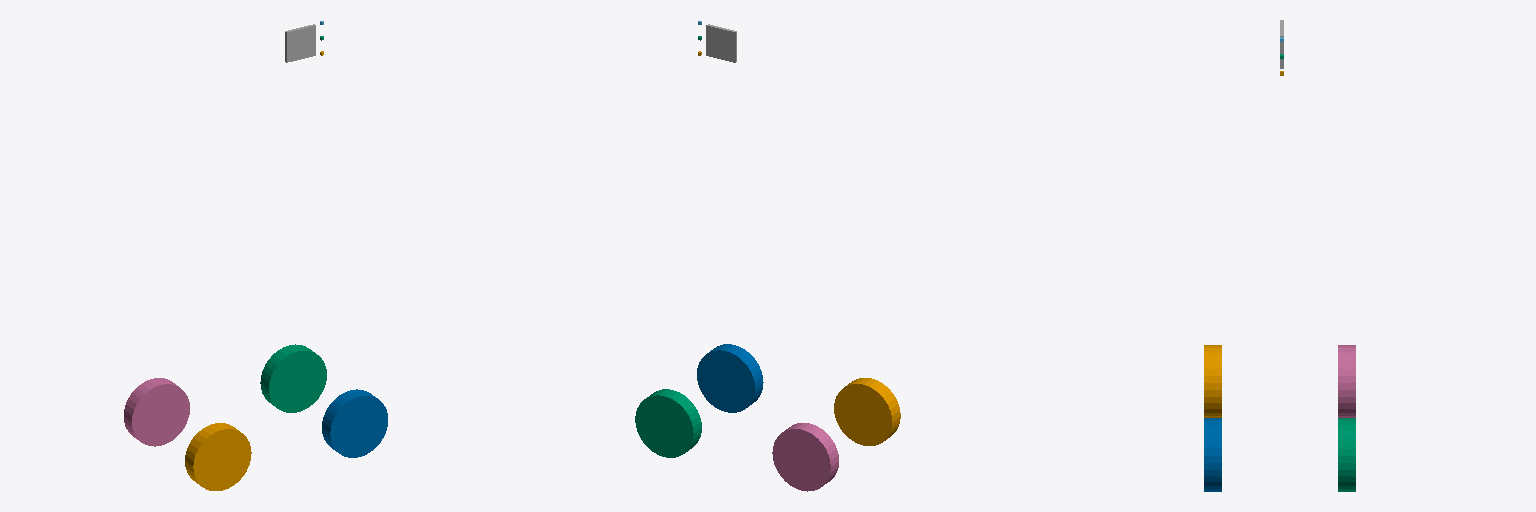
The robot description file, URDF, robot "torso":
<?xml version="1.0"?>
<robot name="torso"
	xmlns:sensor="http://playerstage.sourceforge.net/gazebo/xmlschema/#sensor"
	xmlns:controller="http://playerstage.sourceforge.net/gazebo/xmlschema/#controller"
	xmlns:interface="http://playerstage.sourceforge.net/gazebo/xmlschema/#interface">

	<!-- ################################################################################# -->
	<!-- add links-->
	
	<!-- platform -->
	<link name="link_platform">
		<inertial>
			<origin xyz="0 0 -10" rpy="0 0 0"/>
			<mass value="80"/>
			<inertia ixx="1"  ixy="0"  ixz="0" iyy="1" iyz="0" izz="1" />
		</inertial>
		<visual>
			<origin xyz="0 0 0" rpy="0 0 0" />
			<geometry>
				<mesh filename="package://cob_defs/common/files/meshes/platform.stl" />
			</geometry>
			<material name="Grey"/>
		</visual>
		<collision>
			<origin xyz="0 0 0" rpy="0 0 0" />
			<geometry>
				<mesh filename="package://cob_defs/common/files/meshes/platform.stl"/>
			</geometry>
		</collision>
	</link>

	<!-- wheel front left -->
	<link name="link_steerFL">
		<inertial>
			<origin xyz="0 0 0" rpy="0 0 0"/>
			<mass value="1"/>
			<inertia ixx="1"  ixy="0"  ixz="0" iyy="1" iyz="0" izz="1" />
		</inertial>
		<visual>
			<origin xyz="0 0 -0.0005" rpy="0 0 0" />
			<geometry>
		        <box size="0.001 0.001 0.001"/>
			</geometry>
			<material name="Grey"/>
		</visual>
		<collision>
			<origin xyz="0 0 -0.0005" rpy="0 0 0" />
			<geometry>
		        <box size="0.001 0.001 0.001"/>
			</geometry>
		</collision>
	</link>

	<link name="link_wheelFL">
		<inertial>
			<origin xyz="0 0 0" rpy="0 0 0"/>
			<mass value="1"/>
			<inertia ixx="1"  ixy="0"  ixz="0" iyy="1" iyz="0" izz="1" />
		</inertial>
		<visual>
			<origin xyz="0 0 0.0025" rpy="1.57 0 0" />
			<geometry>
					<cylinder radius="0.1" length="0.05"/>
			</geometry>
			<material name="Grey"/>
		</visual>
		<collision>
			<origin xyz="0 0 0.0025" rpy="1.57 0 0" />
			<geometry>
		        <cylinder radius="0.1" length="0.05"/>
			</geometry>
		</collision>
	</link>
	
	<!-- wheel front right -->
	<link name="link_steerFR">
		<inertial>
			<origin xyz="0 0 0" rpy="0 0 0"/>
			<mass value="1"/>
			<inertia ixx="1"  ixy="0"  ixz="0" iyy="1" iyz="0" izz="1" />
		</inertial>
		<visual>
			<origin xyz="0 0 -0.0005" rpy="0 0 0" />
			<geometry>
		        <box size="0.001 0.001 0.001"/>
			</geometry>
			<material name="Grey"/>
		</visual>
		<collision>
			<origin xyz="0 0 -0.0005" rpy="0 0 0" />
			<geometry>
		        <box size="0.001 0.001 0.001"/>
			</geometry>
		</collision>
	</link>

	<link name="link_wheelFR">
		<inertial>
			<origin xyz="0 0 0" rpy="0 0 0"/>
			<mass value="1"/>
			<inertia ixx="1"  ixy="0"  ixz="0" iyy="1" iyz="0" izz="1" />
		</inertial>
		<visual>
			<origin xyz="0 0 0.0025" rpy="1.57 0 0" />
			<geometry>
					<cylinder radius="0.1" length="0.05"/>
			</geometry>
			<material name="Grey"/>
		</visual>
		<collision>
			<origin xyz="0 0 0.0025" rpy="1.57 0 0" />
			<geometry>
		        <cylinder radius="0.1" length="0.05"/>
			</geometry>
		</collision>
	</link>	

	<!-- wheel rear left -->
	<link name="link_steerRL">
		<inertial>
			<origin xyz="0 0 0" rpy="0 0 0"/>
			<mass value="1"/>
			<inertia ixx="1"  ixy="0"  ixz="0" iyy="1" iyz="0" izz="1" />
		</inertial>
		<visual>
			<origin xyz="0 0 -0.0005" rpy="0 0 0" />
			<geometry>
		        <box size="0.001 0.001 0.001"/>
			</geometry>
			<material name="Grey"/>
		</visual>
		<collision>
			<origin xyz="0 0 -0.0005" rpy="0 0 0" />
			<geometry>
		        <box size="0.001 0.001 0.001"/>
			</geometry>
		</collision>
	</link>

	<link name="link_wheelRL">
		<inertial>
			<origin xyz="0 0 0" rpy="0 0 0"/>
			<mass value="1"/>
			<inertia ixx="1"  ixy="0"  ixz="0" iyy="1" iyz="0" izz="1" />
		</inertial>
		<visual>
			<origin xyz="0 0 0.0025" rpy="1.57 0 0" />
			<geometry>
					<cylinder radius="0.1" length="0.05"/>
			</geometry>
			<material name="Grey"/>
		</visual>
		<collision>
			<origin xyz="0 0 0.0025" rpy="1.57 0 0" />
			<geometry>
		        <cylinder radius="0.1" length="0.05"/>
			</geometry>
		</collision>
	</link>
	
	<!-- wheel rear right -->
	<link name="link_steerRR">
		<inertial>
			<origin xyz="0 0 0" rpy="0 0 0"/>
			<mass value="1"/>
			<inertia ixx="1"  ixy="0"  ixz="0" iyy="1" iyz="0" izz="1" />
		</inertial>
		<visual>
			<origin xyz="0 0 -0.0005" rpy="0 0 0" />
			<geometry>
		        <box size="0.001 0.001 0.001"/>
			</geometry>
			<material name="Grey"/>
		</visual>
		<collision>
			<origin xyz="0 0 -0.0005" rpy="0 0 0" />
			<geometry>
		        <box size="0.001 0.001 0.001"/>
			</geometry>
		</collision>
	</link>

	<link name="link_wheelRR">
		<inertial>
			<origin xyz="0 0 0" rpy="0 0 0"/>
			<mass value="1"/>
			<inertia ixx="1"  ixy="0"  ixz="0" iyy="1" iyz="0" izz="1" />
		</inertial>
		<visual>
			<origin xyz="0 0 0.0025" rpy="1.57 0 0" />
			<geometry>
					<cylinder radius="0.1" length="0.05"/>
			</geometry>
			<material name="Grey"/>
		</visual>
		<collision>
			<origin xyz="0 0 0.0025" rpy="1.57 0 0" />
			<geometry>
		        <cylinder radius="0.1" length="0.05"/>
			</geometry>
		</collision>
	</link>

	<!-- tray -->
	<link name="link_tray">
		<inertial>
			<origin xyz="0 0 0" rpy="0 0 0"/>
			<mass value="5"/>
			<inertia ixx="1"  ixy="0"  ixz="0" iyy="1" iyz="0" izz="1" />
		</inertial>
		<visual>
			<origin xyz="0 0 0" rpy="0.707 0 0" />
			<geometry>
				<mesh filename="package://cob_defs/common/files/meshes/tray.stl" />
			</geometry>
			<material name="Blue"/>
		</visual>
		<collision>
			<origin xyz="0 0 0" rpy="0.707 0 0" />
			<geometry>
				<mesh filename="package://cob_defs/common/files/meshes/tray.stl"/>
			</geometry>
		</collision>
	</link>
	
	<!-- neck -->
	<link name="link_neckZ">
		<inertial>
			<origin xyz="0 0 0" rpy="0 0 0"/>
			<mass value="0.1"/>
			<inertia ixx="1"  ixy="0"  ixz="0" iyy="1" iyz="0" izz="1" />
		</inertial>
		<visual>
			<origin xyz="0 0 0.0005" rpy="0 0 0" />
			<geometry>
		        <box size="0.001 0.001 0.001"/>
			</geometry>
			<material name="Grey"/>
		</visual>
		<collision>
			<origin xyz="0 0 0.0005" rpy="0 0 0" />
			<geometry>
		        <box size="0.001 0.001 0.001"/>
			</geometry>
		</collision>
	</link>
	
	<link name="link_neck">
		<inertial>
			<origin xyz="0 0 0" rpy="0 0 0"/>
			<mass value="1"/>
			<inertia ixx="1"  ixy="0"  ixz="0" iyy="1" iyz="0" izz="1" />
		</inertial>
		<visual>
			<origin xyz="0.1 0.125 0" rpy="1.5708 0 0" />
			<geometry>
				<mesh filename="package://cob_defs/common/files/meshes/neck.stl" />
			</geometry>
			<material name="Red"/>
		</visual>
		<collision>
			<origin xyz="0 0 0" rpy="0 0 0" />
			<geometry>
				<mesh filename="package://cob_defs/common/files/meshes/neck.stl"/>
			</geometry>
		</collision>

	</link>
	
	<!-- head -->
	<link name="link_headZ">
		<inertial>
			<origin xyz="0 0 0" rpy="0 0 0"/>
			<mass value="0.1"/>
			<inertia ixx="1"  ixy="0"  ixz="0" iyy="1" iyz="0" izz="1" />
		</inertial>
		<visual>
			<origin xyz="0 0 0.0005" rpy="0 0 0" />
			<geometry>
		        <box size="0.001 0.001 0.001"/>
			</geometry>
			<material name="Grey"/>
		</visual>
		<collision>
			<origin xyz="0 0 0.0005" rpy="0 0 0" />
			<geometry>
		        <box size="0.001 0.001 0.001"/>
			</geometry>
		</collision>
	</link>	
	
	<link name="link_head">
		<inertial>
			<origin xyz="0 0 0" rpy="0 0 0"/>
			<mass value="1"/>
			<inertia ixx="1"  ixy="0"  ixz="0" iyy="1" iyz="0" izz="1" />
		</inertial>
		<visual>
			<origin xyz="0 0.05 0" rpy="1.5708 0 0" />
			<geometry>
				<mesh filename="package://cob_defs/common/files/meshes/head.stl" />
			</geometry>
			<material name="Grey"/>
		</visual>
		<collision>
			<origin xyz="0 0 0" rpy="0 0 0" />
			<geometry>
				<mesh filename="package://cob_defs/common/files/meshes/head.stl"/>
			</geometry>
		</collision>
	</link>
	
	<link name="link_head_cover">
		<inertial>
			<origin xyz="0 0 0" rpy="0 0 0"/>
			<mass value="1"/>
			<inertia ixx="1"  ixy="0"  ixz="0" iyy="1" iyz="0" izz="1" />
		</inertial>
		<visual>
			<origin xyz="0 0.05 0" rpy="1.5708 0 0" />
			<geometry>
				<mesh filename="package://cob_defs/common/files/meshes/head_cover.stl" />
			</geometry>
			<material name="Blue"/>
		</visual>
		<collision>
			<origin xyz="0 0 0" rpy="0 0 0" />
			<geometry>
				<mesh filename="package://cob_defs/common/files/meshes/head_cover.stl"/>
			</geometry>
		</collision>
	</link>
	
	<!-- eyes -->
	<link name="link_eyes">
		<inertial>
			<origin xyz="0 0 0" rpy="0 0 0"/>
			<mass value="1"/>
			<inertia ixx="1"  ixy="0"  ixz="0" iyy="1" iyz="0" izz="1" />
		</inertial>
		<visual>
			<origin xyz="0 0 0.005" rpy="0 0 0" />
			<geometry>
		        <box size="0.1 0.1 0.01"/>
<!--				<mesh filename="package://cob_defs/common/files/meshes/finger_tip.stl" /> -->
			</geometry>
			<material name="Grey"/>
		</visual>
		<collision>
			<origin xyz="0 0 0.005" rpy="0 0 0" />
			<geometry>
		        <box size="0.1 0.1 0.01"/>
<!--				<mesh filename="package://cob_defs/common/files/meshes/finger_tip.stl"/> -->
			</geometry>
		</collision>
	</link>
	
	<link name="link_colorcameraLeft">
		<inertial>
			<origin xyz="0 0 0" rpy="0 0 0"/>
			<mass value="1"/>
			<inertia ixx="1"  ixy="0"  ixz="0" iyy="1" iyz="0" izz="1" />
		</inertial>
		<visual>
			<origin xyz="0 0 0.005" rpy="0 0 0" />
			<geometry>
		        <box size="0.01 0.01 0.01"/>
<!--				<mesh filename="package://cob_defs/common/files/meshes/finger_tip.stl" /> -->
			</geometry>
			<material name="Grey"/>
		</visual>
		<collision>
			<origin xyz="0 0 0.005" rpy="0 0 0" />
			<geometry>
		        <box size="0.01 0.01 0.01"/>
<!--				<mesh filename="package://cob_defs/common/files/meshes/finger_tip.stl"/> -->
			</geometry>
		</collision>
	</link>
	
	<link name="link_colorcameraRight">
		<inertial>
			<origin xyz="0 0 0" rpy="0 0 0"/>
			<mass value="1"/>
			<inertia ixx="1"  ixy="0"  ixz="0" iyy="1" iyz="0" izz="1" />
		</inertial>
		<visual>
			<origin xyz="0 0 0.005" rpy="0 0 0" />
			<geometry>
		        <box size="0.01 0.01 0.01"/>
<!--				<mesh filename="package://cob_defs/common/files/meshes/finger_tip.stl" /> -->
			</geometry>
			<material name="Grey"/>
		</visual>
		<collision>
			<origin xyz="0 0 0.005" rpy="0 0 0" />
			<geometry>
		        <box size="0.01 0.01 0.01"/>
<!--				<mesh filename="package://cob_defs/common/files/meshes/finger_tip.stl"/> -->
			</geometry>
		</collision>
	</link>
	
	<link name="link_swissranger">
		<inertial>
			<origin xyz="0 0 0" rpy="0 0 0"/>
			<mass value="1"/>
			<inertia ixx="1"  ixy="0"  ixz="0" iyy="1" iyz="0" izz="1" />
		</inertial>
		<visual>
			<origin xyz="0 0 0.005" rpy="0 0 0" />
			<geometry>
		        <box size="0.01 0.01 0.01"/>
<!--				<mesh filename="package://cob_defs/common/files/meshes/finger_tip.stl" /> -->
			</geometry>
			<material name="Grey"/>
		</visual>
		<collision>
			<origin xyz="0 0 0.005" rpy="0 0 0" />
			<geometry>
		        <box size="0.01 0.01 0.01"/>
<!--				<mesh filename="package://cob_defs/common/files/meshes/finger_tip.stl"/> -->
			</geometry>
		</collision>
	</link>
	
	<!-- define colors for links -->
	<gazebo reference="link_platform">
		<material>Gazebo/Grey</material>
		<turnGravityOff>false</turnGravityOff>
	</gazebo>
	
	<gazebo reference="link_steerFL">
		<material>Gazebo/Black</material>
		<turnGravityOff>false</turnGravityOff>
	</gazebo>

	<gazebo reference="link_wheelFL">
		<material>Gazebo/Red</material>
		<turnGravityOff>false</turnGravityOff>
	</gazebo>
	
	<gazebo reference="link_steerFR">
		<material>Gazebo/Black</material>
		<turnGravityOff>false</turnGravityOff>
	</gazebo>

	<gazebo reference="link_wheelFR">
		<material>Gazebo/Red</material>
		<turnGravityOff>false</turnGravityOff>
	</gazebo>
	
	<gazebo reference="link_steerRL">
		<material>Gazebo/Black</material>
		<turnGravityOff>false</turnGravityOff>
	</gazebo>

	<gazebo reference="link_wheelRL">
		<material>Gazebo/Red</material>
		<turnGravityOff>false</turnGravityOff>
	</gazebo>
	
	<gazebo reference="link_steerRR">
		<material>Gazebo/Black</material>
		<turnGravityOff>false</turnGravityOff>
	</gazebo>

	<gazebo reference="link_wheelRR">
		<material>Gazebo/Red</material>
		<turnGravityOff>false</turnGravityOff>
	</gazebo>
	
	<gazebo reference="link_tray">
		<material>Gazebo/Blue</material>
		<turnGravityOff>false</turnGravityOff>
	</gazebo>
	
	<gazebo reference="link_neckZ">
		<material>Gazebo/Red</material>
		<turnGravityOff>true</turnGravityOff>
	</gazebo>
	
	<gazebo reference="link_neck">
		<material>Gazebo/Red</material>
		<turnGravityOff>false</turnGravityOff>
	</gazebo>

	<gazebo reference="link_headZ">
		<material>Gazebo/Grey</material>
		<turnGravityOff>false</turnGravityOff>
	</gazebo>

	<gazebo reference="link_head">
		<material>Gazebo/Grey</material>
		<turnGravityOff>false</turnGravityOff>
	</gazebo>
	
	<gazebo reference="link_head_cover">
		<material>Gazebo/Blue</material>
		<turnGravityOff>false</turnGravityOff>
	</gazebo>

	<gazebo reference="link_eyes">
		<material>Gazebo/Red</material>
		<turnGravityOff>false</turnGravityOff>
	</gazebo>
	
	<gazebo reference="link_colorcameraLeft">
		<material>Gazebo/Blue</material>
		<turnGravityOff>false</turnGravityOff>
	</gazebo>	
	
	<gazebo reference="link_colorcameraRight">
		<material>Gazebo/Blue</material>
		<turnGravityOff>false</turnGravityOff>
	</gazebo>
	
	<gazebo reference="link_swissranger">
		<material>Gazebo/Green</material>
		<turnGravityOff>false</turnGravityOff>
	</gazebo>

	<!-- ################################################################################# -->
	<!-- add joints -->

	<!-- wheel front left -->
	<joint name="joint_platform_steerFL" type="continuous">
		<origin xyz="0.235 0.1825 0.092" rpy="0 0 0" />
		<parent link="link_platform"/>
		<child link="link_steerFL"/>
		<axis xyz="0 0 1" />
	    <calibration reference_position="0.0"/>
		<limit effort="100" lower="-1" upper="1" velocity="5"/>
	</joint>
	
	<joint name="joint_steerFL_wheelFL" type="continuous">
		<origin xyz="0 0 0.001" rpy="0 0 0" />
		<parent link="link_steerFL"/>
		<child link="link_wheelFL"/>
		<axis xyz="0 1 0" />
	    <calibration reference_position="0.0"/>
		<limit effort="100" lower="-1" upper="1" velocity="5"/>
	</joint>

	<!-- wheel front right -->
	<joint name="joint_platform_steerFR" type="continuous">
		<origin xyz="0.235 -0.1825 0.092" rpy="0 0 0" />
		<parent link="link_platform"/>
		<child link="link_steerFR"/>
		<axis xyz="0 0 1" />
	    <calibration reference_position="0.0"/>
		<limit effort="100" lower="-1" upper="1" velocity="5"/>
	</joint>
	
	<joint name="joint_steerFR_wheelFR" type="continuous">
		<origin xyz="0 0 0.001" rpy="0 0 0" />
		<parent link="link_steerFR"/>
		<child link="link_wheelFR"/>
		<axis xyz="0 1 0" />
	    <calibration reference_position="0.0"/>
		<limit effort="100" lower="-1" upper="1" velocity="5"/>
	</joint>
	
	<!-- wheel rear left -->
	<joint name="joint_platform_steerRL" type="continuous">
		<origin xyz="-0.235 0.1825 0.092" rpy="0 0 0" />
		<parent link="link_platform"/>
		<child link="link_steerRL"/>
		<axis xyz="0 0 1" />
	    <calibration reference_position="0.0"/>
		<limit effort="100" lower="-1" upper="1" velocity="5"/>
	</joint>
	
	<joint name="joint_steerRL_wheelRL" type="continuous">
		<origin xyz="0 0 0.001" rpy="0 0 0" />
		<parent link="link_steerRL"/>
		<child link="link_wheelRL"/>
		<axis xyz="0 1 0" />
	    <calibration reference_position="0.0"/>
		<limit effort="100" lower="-1" upper="1" velocity="5"/>
	</joint>

	<!-- wheel rear right -->
	<joint name="joint_platform_steerRR" type="continuous">
		<origin xyz="-0.235 -0.1825 0.092" rpy="0 0 0" />
		<parent link="link_platform"/>
		<child link="link_steerRR"/>
		<axis xyz="0 0 1" />
	    <calibration reference_position="0.0"/>
		<limit effort="100" lower="-1" upper="1" velocity="5"/>
	</joint>
	
	<joint name="joint_steerRR_wheelRR" type="continuous">
		<origin xyz="0 0 0.001" rpy="0 0 0" />
		<parent link="link_steerRR"/>
		<child link="link_wheelRR"/>
		<axis xyz="0 1 0" />
	    <calibration reference_position="0.0"/>
		<limit effort="100" lower="-1" upper="1" velocity="5"/>
	</joint>

	<!-- tray -->
	<joint name="joint_platform_tray" type="revolute">
		<origin xyz="0.21864 0.20061 0.73196" rpy="-0.707 0 0" />
		<parent link="link_platform"/>
		<child link="link_tray"/>
		<axis xyz="0 0 1" />
	    <calibration reference_position="2.5914"/>
		<limit effort="100" lower="-3.31612" upper="3" velocity="0.5"/> <!-- rads. effort is N-m applied force. vel is rad/s. -->
	</joint>
	
	<!-- neck Schunk PW90 -->
	<joint name="joint_platform_neckZ" type="revolute">
		<origin xyz="0.155 0 0.7798" rpy="3.1415926 0 0" />
		<parent link="link_platform"/>
		<child link="link_neckZ"/>
		<axis xyz="0 0 1" />
	    <calibration reference_position="-0.5306"/>
		<limit effort="24" lower="-6.2831" upper="6.2831" velocity="0.5"/> <!-- rads. effort is N-m applied force. vel is rad/s. -->
	</joint>
	
	<joint name="joint_neckZ_neck" type="revolute">
		<origin xyz="0 0 -0.115" rpy="1.5708 0 0" />
		<parent link="link_neckZ"/>
		<child link="link_neck"/>
		<axis xyz="0 0 1" />
	    <calibration reference_position="0.0320"/>
		<limit effort="46" lower="-1.5" upper="1.5" velocity="0.5"/> <!-- rads. effort is N-m applied force. vel is rad/s. -->
	</joint>

	<!-- head Schunk PW70 -->
	<joint name="joint_neck_headZ" type="revolute">
		<origin xyz="0 -0.237 0.0" rpy="-1.5708 0 0" />
		<parent link="link_neck"/>
		<child link="link_headZ"/>
		<axis xyz="0 0 1" />
	    <calibration reference_position="0.5481"/>
		<limit effort="4" lower="-6.2831" upper="6.2831" velocity="0.5"/> <!-- rads. effort is N-m applied force. vel is rad/s. -->
	</joint>
	
	<joint name="joint_headZ_head" type="revolute">
		<origin xyz="0 0 0" rpy="1.5708 0 0" />
		<parent link="link_headZ"/>
		<child link="link_head"/>
		<axis xyz="0 0 1" />
	    <calibration reference_position="0.0229"/>
		<limit effort="24" lower="-1.5" upper="1.5" velocity="0.5"/> <!-- rads. effort is N-m applied force. vel is rad/s. -->
	</joint>
	
	<!-- head_cover -->
	<joint name="joint_headZ_head_cover" type="fixed">
		<origin xyz="0 0 0" rpy="0 0 0" />
		<parent link="link_head"/>
		<child link="link_head_cover"/>
	</joint>
	
	<!-- eyes -->
	<joint name="joint_head_eyes" type="revolute">
		<origin xyz="0 -0.154 0" rpy="0 0 0" />
		<parent link="link_head"/>
		<child link="link_eyes"/>
		<axis xyz="0 0 1" />
	    <calibration reference_position="-3.14"/>
		<limit effort="100" lower="-0.1745" upper="3.316" velocity="0.5"/> <!-- rads. effort is N-m applied force. vel is rad/s. -->
	</joint>
	
	<joint name="joint_eyes_colorcameraLeft" type="fixed">
		<origin xyz="0.075 0.05 0" rpy="0 0 0" />
		<parent link="link_eyes"/>
		<child link="link_colorcameraLeft"/>
	</joint>
	
	<joint name="joint_eyes_colorcameraRight" type="fixed">
		<origin xyz="0.075 -0.05 0" rpy="0 0 0" />
		<parent link="link_eyes"/>
		<child link="link_colorcameraRight"/>
	</joint>
	
	<joint name="joint_eyes_swissranger" type="fixed">
		<origin xyz="0.075 0 0" rpy="0 0 0" />
		<parent link="link_eyes"/>
		<child link="link_swissranger"/>
	</joint>

	<!-- ################################################################################# -->
	<!-- add transmissions -->
	
	<!-- wheel front left -->
	<transmission name="trans_platform_steerFL" type="SimpleTransmission">
		<actuator name="motor_platform_steerFL"/>
		<joint name="joint_platform_steerFL"/>
		<mechanicalReduction>1</mechanicalReduction>
	</transmission>

	<transmission name="trans_steerFL_wheelFL" type="SimpleTransmission">
		<actuator name="motor_steerFL_wheelFL"/>
		<joint name="joint_steerFL_wheelFL"/>
		<mechanicalReduction>1</mechanicalReduction>
	</transmission>
	
	<!-- wheel front right -->
	<transmission name="trans_platform_steerFR" type="SimpleTransmission">
		<actuator name="motor_platform_steerFR"/>
		<joint name="joint_platform_steerFR"/>
		<mechanicalReduction>1</mechanicalReduction>
	</transmission>

	<transmission name="trans_steerFR_wheelFR" type="SimpleTransmission">
		<actuator name="motor_steerFR_wheelFR"/>
		<joint name="joint_steerFR_wheelFR"/>
		<mechanicalReduction>1</mechanicalReduction>
	</transmission>
	
	<!-- wheel rear left -->
	<transmission name="trans_platform_steerRL" type="SimpleTransmission">
		<actuator name="motor_platform_steerRL"/>
		<joint name="joint_platform_steerRL"/>
		<mechanicalReduction>1</mechanicalReduction>
	</transmission>

	<transmission name="trans_steerRL_wheelRL" type="SimpleTransmission">
		<actuator name="motor_steerRL_wheelRL"/>
		<joint name="joint_steerRL_wheelRL"/>
		<mechanicalReduction>1</mechanicalReduction>
	</transmission>
	
	<!-- wheel rear right -->
	<transmission name="trans_platform_steerRR" type="SimpleTransmission">
		<actuator name="motor_platform_steerRR"/>
		<joint name="joint_platform_steerRR"/>
		<mechanicalReduction>1</mechanicalReduction>
	</transmission>

	<transmission name="trans_steerRR_wheelRR" type="SimpleTransmission">
		<actuator name="motor_steerRR_wheelRR"/>
		<joint name="joint_steerRR_wheelRR"/>
		<mechanicalReduction>1</mechanicalReduction>
	</transmission>
	
	<!-- tray -->
	<transmission name="trans_platform_tray" type="SimpleTransmission">
		<actuator name="motor_platform_tray"/>
		<joint name="joint_platform_tray"/>
		<mechanicalReduction>1</mechanicalReduction>
	</transmission>
	
	<!-- neck -->
	<transmission name="trans_platform_neckZ" type="SimpleTransmission">
		<actuator name="motor_platform_neckZ"/>
		<joint name="joint_platform_neckZ"/>
		<mechanicalReduction>1</mechanicalReduction>
	</transmission>
	
	<transmission name="trans_neckZ_neck" type="SimpleTransmission">
		<actuator name="motor_neckZ_neck"/>
		<joint name="joint_neckZ_neck"/>
		<mechanicalReduction>1</mechanicalReduction>
	</transmission>
	
	<!-- head -->
	<transmission name="trans_neck_headZ" type="SimpleTransmission">
		<actuator name="motor_neck_headZ"/>
		<joint name="joint_neck_headZ"/>
		<mechanicalReduction>1</mechanicalReduction>
	</transmission>
	
	<transmission name="trans_headZ_head" type="SimpleTransmission">
		<actuator name="motor_headZ_head"/>
		<joint name="joint_headZ_head"/>
		<mechanicalReduction>1</mechanicalReduction>
	</transmission>
	
	<!-- eyes -->
	<transmission name="trans_head_eyes" type="SimpleTransmission">
		<actuator name="motor_head_eyes"/>
		<joint name="joint_head_eyes"/>
		<mechanicalReduction>1</mechanicalReduction>
	</transmission>

</robot>

--- What the picture shows (computed from the rendered views, not written in the file) ---
3 views of the same robot in one strip: view 1: azimuth 30°, elevation 25°; view 2: azimuth 150°, elevation 25°; view 3: azimuth 270°, elevation 25° (orthographic).
Model torso with 19 links and 18 joints (6 revolute, 8 continuous, 4 fixed), rooted at link_platform, posed every joint at zero.
Links seen in each view (by area): view 1: link_wheelFL, link_wheelRR, link_wheelRL, link_wheelFR, link_eyes; view 2: link_wheelFL, link_wheelFR, link_wheelRL, link_wheelRR, link_eyes; view 3: link_wheelFL, link_wheelFR, link_wheelRL, link_wheelRR.
Link boxes in pixels (bbox=[...]): link_wheelFL: bbox=[260, 344, 326, 412]; link_wheelRR: bbox=[185, 423, 251, 490]; link_wheelRL: bbox=[124, 378, 189, 446]; link_wheelFR: bbox=[322, 389, 387, 457]; link_eyes: bbox=[285, 24, 315, 62]; link_wheelFL: bbox=[635, 389, 701, 457]; link_wheelFR: bbox=[697, 344, 763, 412]; link_wheelRL: bbox=[772, 423, 838, 491]; link_wheelRR: bbox=[834, 378, 900, 445]; link_eyes: bbox=[706, 24, 736, 62]; link_wheelFL: bbox=[1338, 418, 1355, 491]; link_wheelFR: bbox=[1204, 418, 1221, 491]; link_wheelRL: bbox=[1338, 345, 1355, 417]; link_wheelRR: bbox=[1204, 345, 1221, 417].
Size in the robot's own frame: 0.67 by 0.4152 by 1.35 metres.
Meshes: 5 distinct files referenced, 0 mesh visuals loaded (none loaded); not drawn: 5 (reference not matched to a file when rendering).